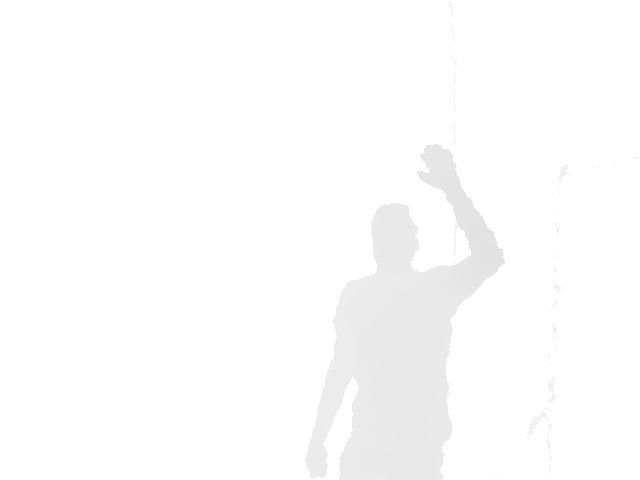hand: (416, 142, 465, 188)
head: (371, 203, 419, 276)
person: (303, 143, 507, 480)
